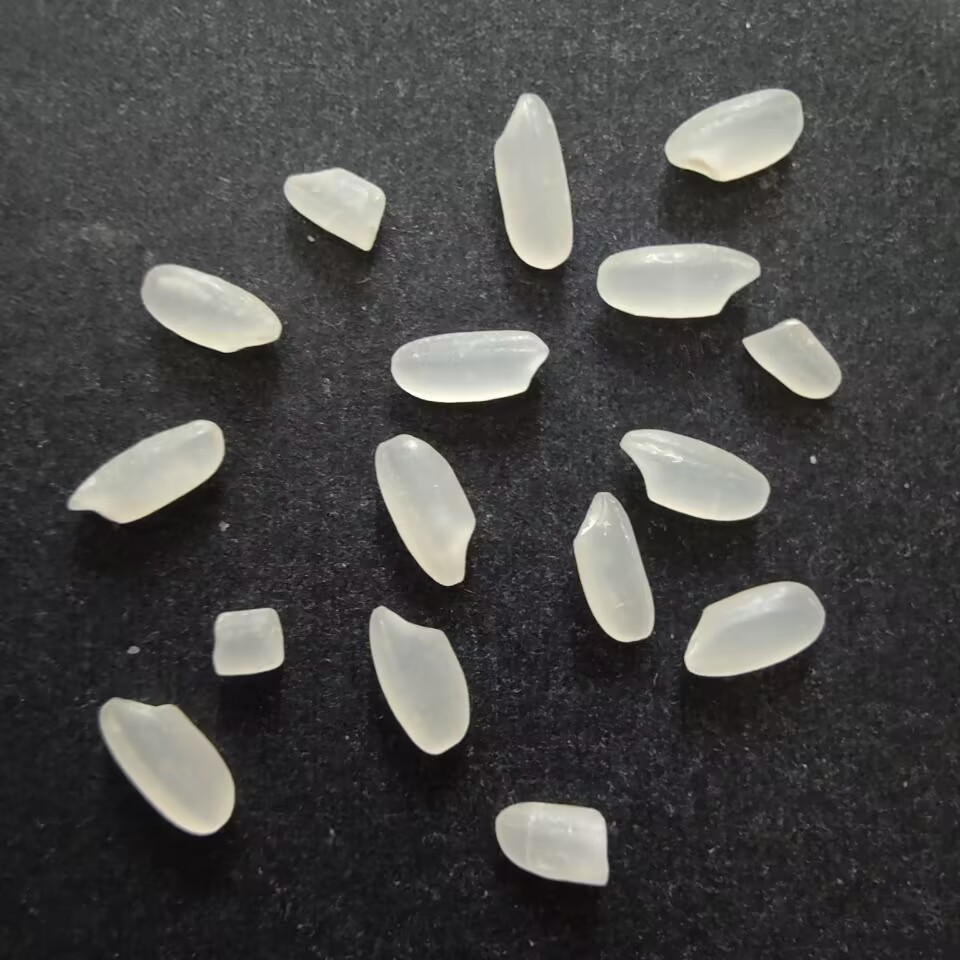broken: (485, 798, 615, 891), (275, 165, 393, 255), (736, 314, 847, 405), (207, 602, 289, 686)
rice: (95, 693, 240, 838), (59, 414, 229, 526), (369, 433, 483, 590), (365, 599, 475, 758), (614, 425, 777, 526), (483, 90, 573, 271), (680, 576, 830, 682), (135, 260, 286, 357), (587, 239, 766, 319), (659, 88, 808, 184), (568, 485, 656, 647), (383, 327, 554, 405)
